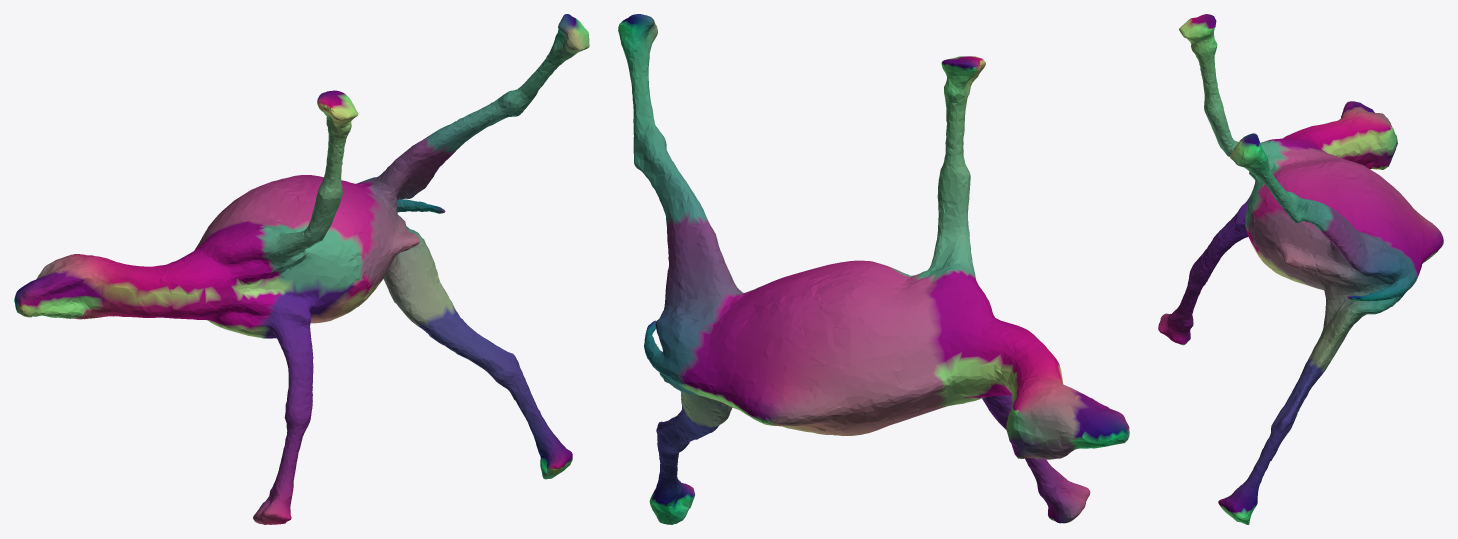
File: camel-3.off.obj
3 renders of one model, left to right at view 1: azimuth 30°, elevation 25°; view 2: azimuth 150°, elevation 25°; view 3: azimuth 270°, elevation 25°, orthographic. The views are drawn at different scales.
Bounding box in the file's own units: 1.46 × 1.25 × 0.8049.
